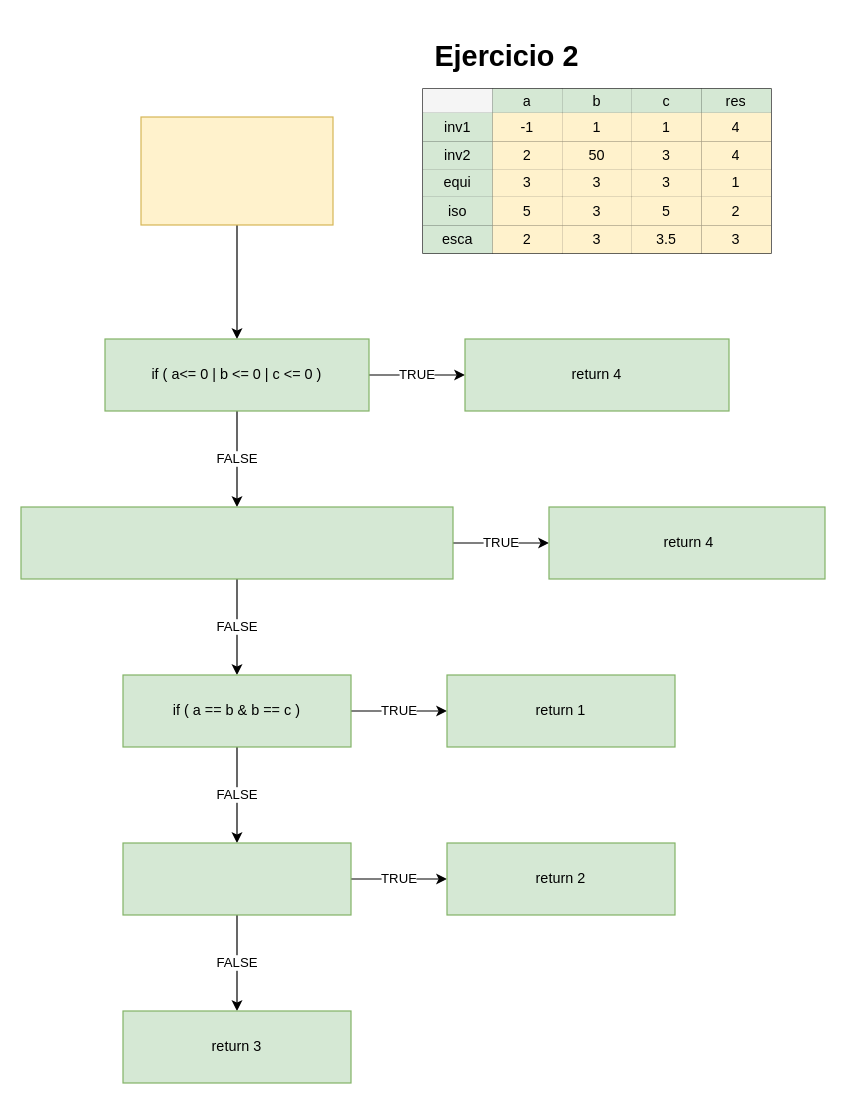
This 846x1104 diagram has some shape labels left out. Each missing label, with the centre of its shape:
if ( a == b || b == c || a == c ): [236,878]
if ( not ( ( a + b > c ) & ( a + c > b ) & ( a == b || b == c || a == c ) ) ): [236,542]
triangle( a:int, b:int, c:int ): [236,170]
